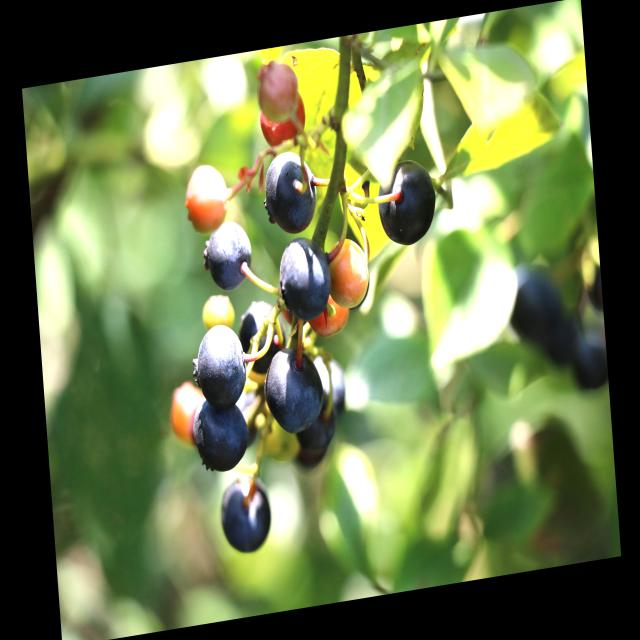blueberry: (258, 338, 328, 444), (185, 314, 254, 421), (495, 249, 568, 347), (254, 144, 327, 241), (374, 150, 441, 253), (274, 229, 338, 329), (187, 392, 253, 487), (214, 465, 276, 559), (197, 210, 256, 303), (233, 289, 292, 379), (302, 338, 353, 434), (290, 385, 340, 456), (283, 422, 332, 480), (568, 330, 609, 399), (539, 316, 579, 374)
blueberry-halfripe: (324, 236, 376, 318), (184, 162, 230, 235), (255, 58, 302, 123), (259, 96, 310, 149), (167, 382, 204, 445)
blueberry-unripe: (201, 290, 238, 340)
